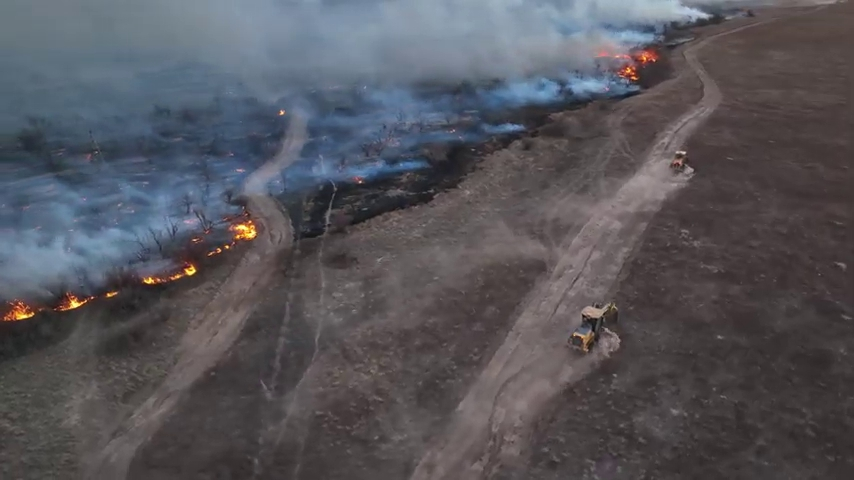forest_fire: (2, 291, 96, 320), (596, 48, 657, 81), (208, 219, 256, 255), (139, 263, 197, 284), (103, 290, 118, 296), (190, 237, 197, 242)
